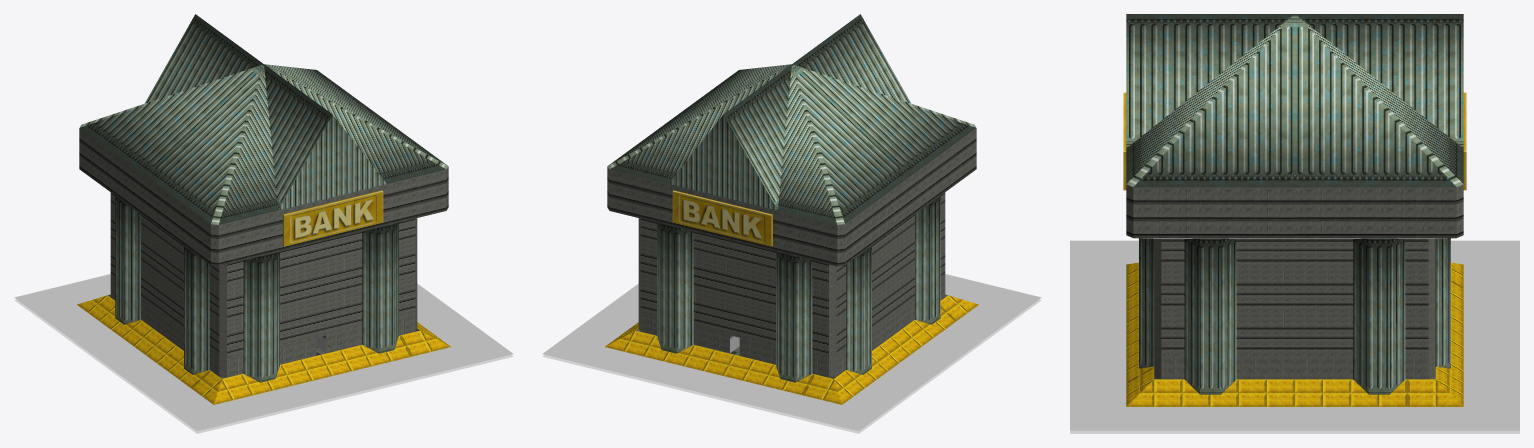
Rendered from bvault01.FBX.
3 views of the same model, side by side, from view 1: azimuth 30°, elevation 25°; view 2: azimuth 150°, elevation 25°; view 3: azimuth 270°, elevation 25° (orthographic). The views are drawn at different scales.
Visible parts, largest first — view 1: grid4, grid2, bvault01, obj7, obj9, grid3, bank_sign, terrain__h; view 2: grid4, grid2, bvault01, obj7, obj9, grid3, bank_sign, terrain__h; view 3: grid4, grid2, bvault01, obj7, obj9, grid3, terrain__h, bank_sign.
Boxes of the visible parts, x1,y1,x2,y2 form: grid4: (79,14,448,224); grid2: (79,128,448,359); bvault01: (14,274,513,431); obj7: (115,196,398,382); obj9: (77,295,450,404); grid3: (110,279,417,377); bank_sign: (283,190,383,246); terrain__h: (14,299,513,433); grid4: (607,14,976,224); grid2: (607,128,976,359); bvault01: (542,274,1041,431); obj7: (657,196,940,382); obj9: (605,295,978,404); grid3: (638,279,945,377); bank_sign: (672,190,772,246); terrain__h: (542,299,1041,433); grid4: (1126,14,1463,187); grid2: (1126,184,1463,356); bvault01: (1070,240,1519,430); obj7: (1139,238,1450,394); obj9: (1126,262,1463,406); grid3: (1154,354,1435,379); terrain__h: (1070,430,1519,433); bank_sign: (1123,92,1466,190).
Size of what is drawn, in the model's own units: 64 by 64 by 51.
